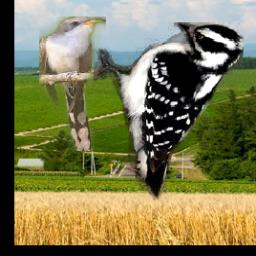Cuckoo: (39, 17, 106, 151)
Woodpecker: (95, 22, 245, 201)
